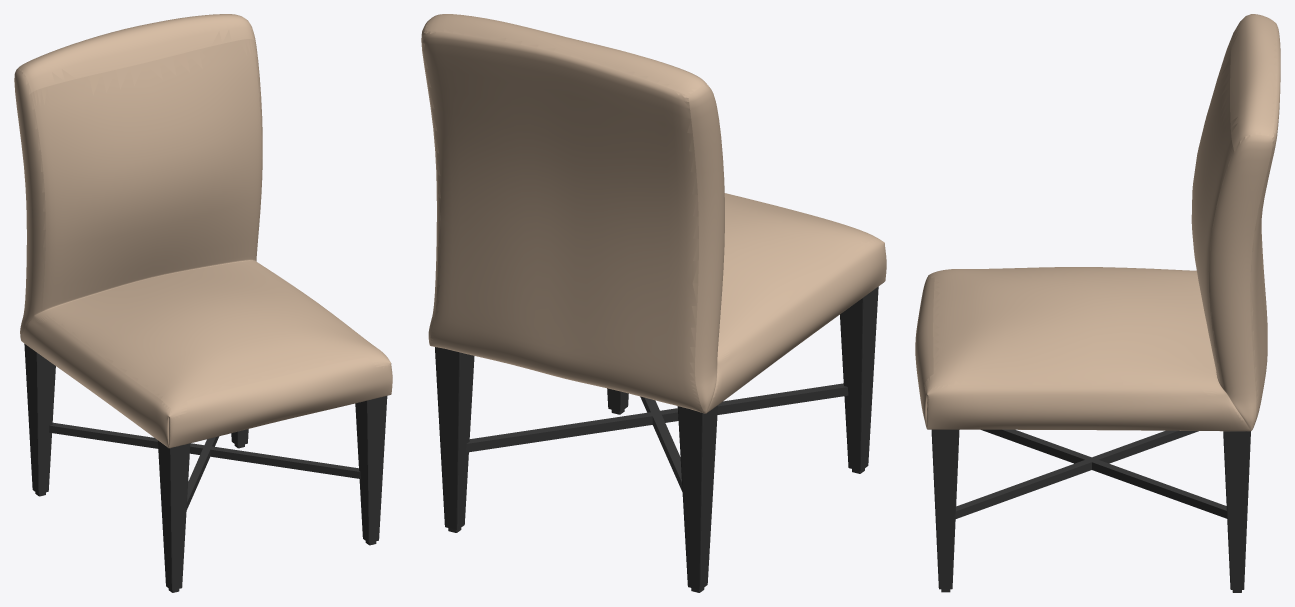
The model's file is Chair.FBX.
3 views of the same model, side by side, from view 1: azimuth 30°, elevation 25°; view 2: azimuth 150°, elevation 25°; view 3: azimuth 270°, elevation 25° (orthographic). The views are drawn at different scales.
Parts seen in each view (by area): view 1: Box01, Box05.Box09, Box05.Box08, Box05.Box07, Box02.Box10, Box02; view 2: Box01, Box05.Box07, Box05, Box05.Box09, Box02, Box02.Box10; view 3: Box01, Box05.Box08, Box05, Box02, Box02.Box10.
Part boxes in pixels (x1=…): Box01: x1=14, y1=14, x2=392, y2=448; Box05.Box09: x1=157, y1=440, x2=190, y2=592; Box05.Box08: x1=355, y1=396, x2=387, y2=545; Box05.Box07: x1=24, y1=343, x2=55, y2=496; Box02.Box10: x1=49, y1=422, x2=360, y2=478; Box02: x1=186, y1=436, x2=219, y2=509; Box01: x1=421, y1=14, x2=886, y2=413; Box05.Box07: x1=677, y1=405, x2=717, y2=592; Box05: x1=435, y1=347, x2=474, y2=532; Box05.Box09: x1=840, y1=286, x2=878, y2=473; Box02: x1=466, y1=383, x2=848, y2=452; Box02.Box10: x1=640, y1=396, x2=682, y2=491; Box01: x1=915, y1=14, x2=1280, y2=431; Box05.Box08: x1=931, y1=429, x2=959, y2=592; Box05: x1=1223, y1=431, x2=1250, y2=592; Box02: x1=981, y1=429, x2=1227, y2=518; Box02.Box10: x1=955, y1=430, x2=1198, y2=518.
Size of the model in its own units: 525 by 917 by 637.
